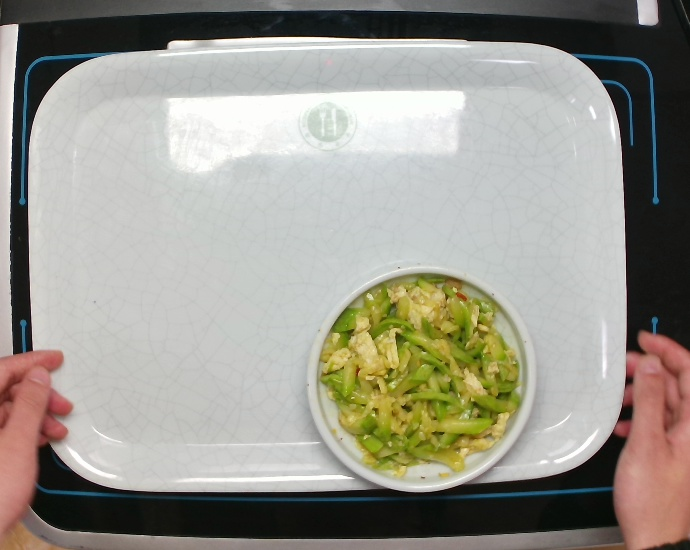JYsf-Xiao_Yuan_Pan: (301, 264, 541, 492)
